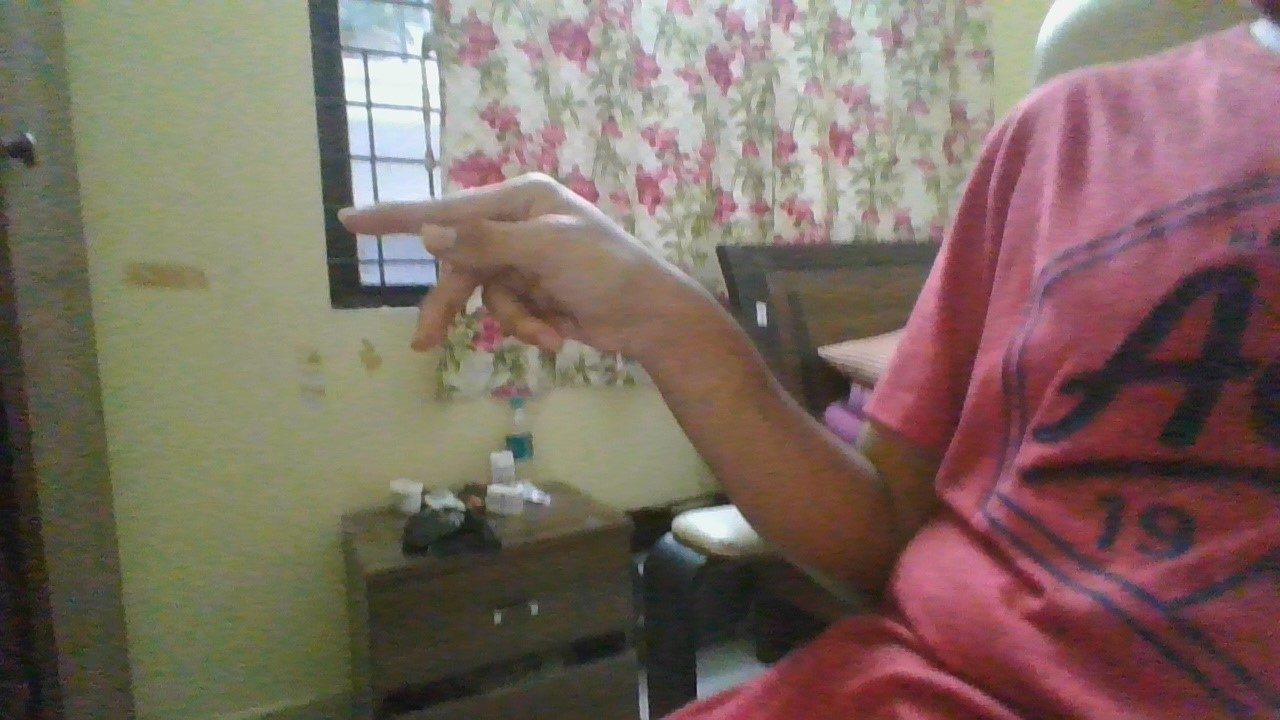p: (332, 170, 663, 366)
